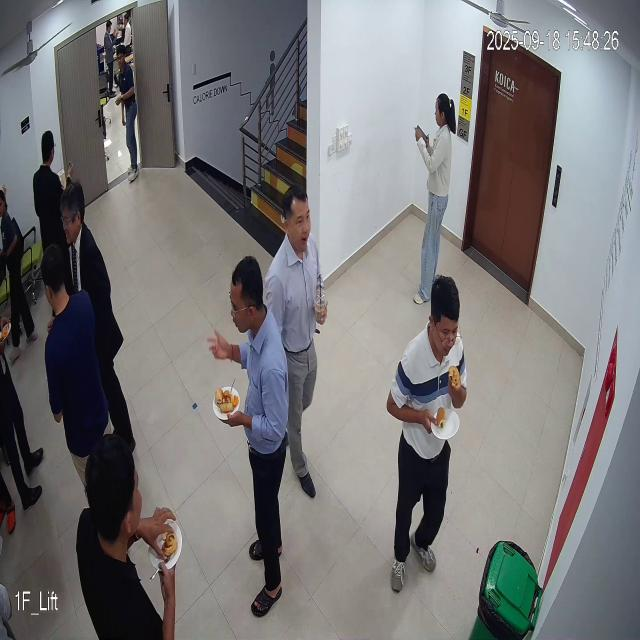face: (278, 182, 318, 252)
